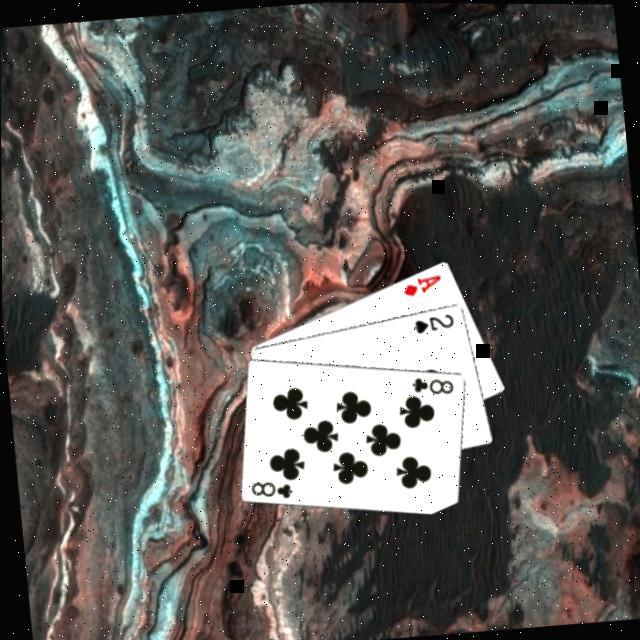2S: (406, 306, 454, 333)
8C: (244, 473, 293, 502), (406, 368, 454, 397)
AD: (397, 268, 442, 297)
